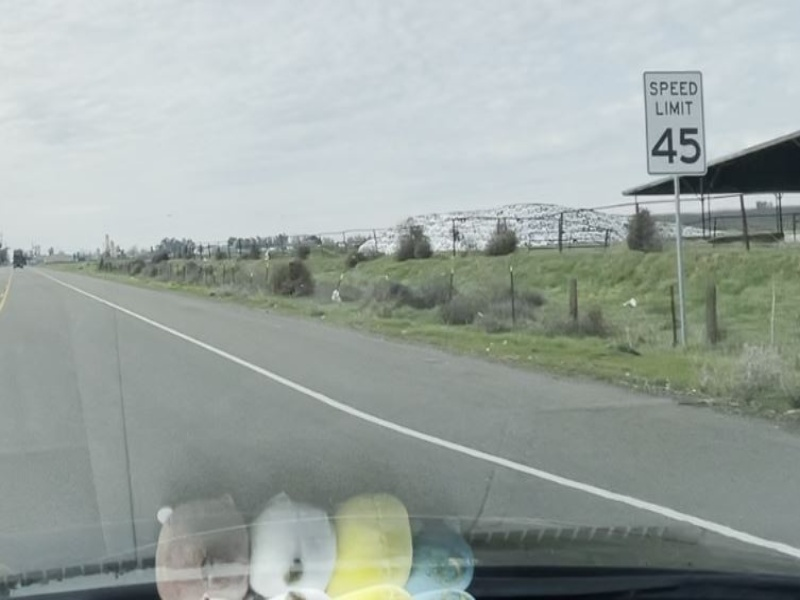speed limit sign: (640, 71, 710, 179)
